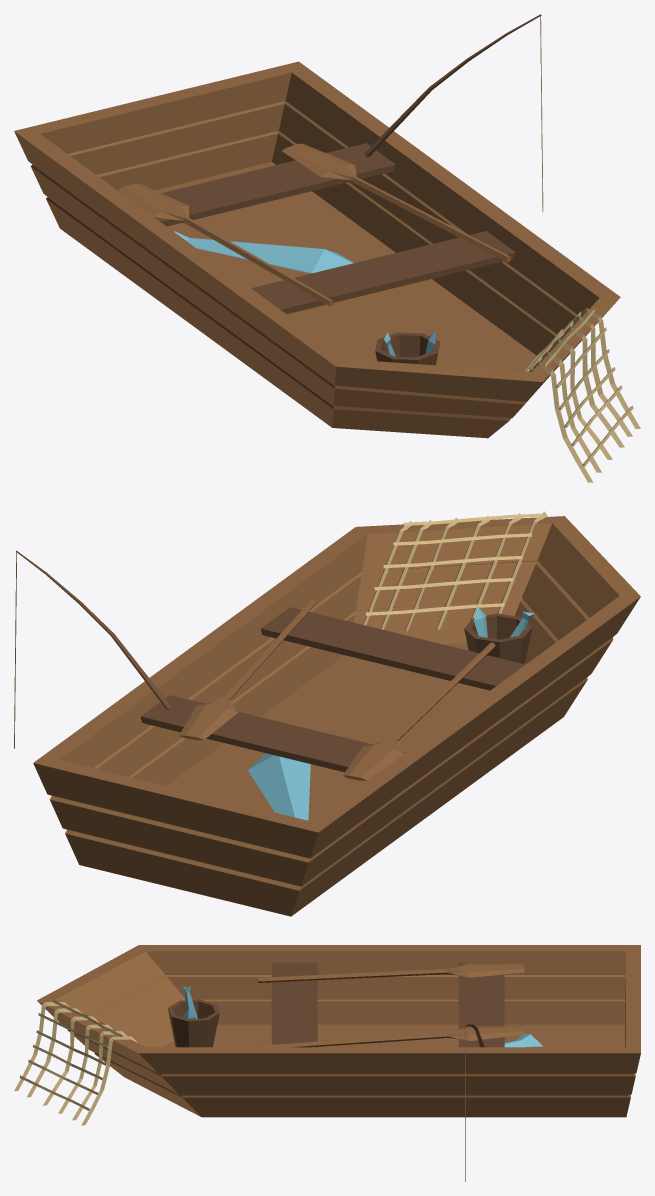
File: Boat_mat.fbx
3 renders of one model, top to bottom at view 1: azimuth 30°, elevation 25°; view 2: azimuth 150°, elevation 25°; view 3: azimuth 270°, elevation 25°, orthographic. The views are drawn at different scales.
Visible parts, largest first — view 1: Boat_mat; view 2: Boat_mat; view 3: Boat_mat.
Boxes of the visible parts, x1,y1,x2,y2 form: Boat_mat: (14, 14, 640, 482); Boat_mat: (14, 511, 640, 916); Boat_mat: (14, 945, 640, 1181).
Bounding box in the file's own units: 105 × 47.62 × 175.
